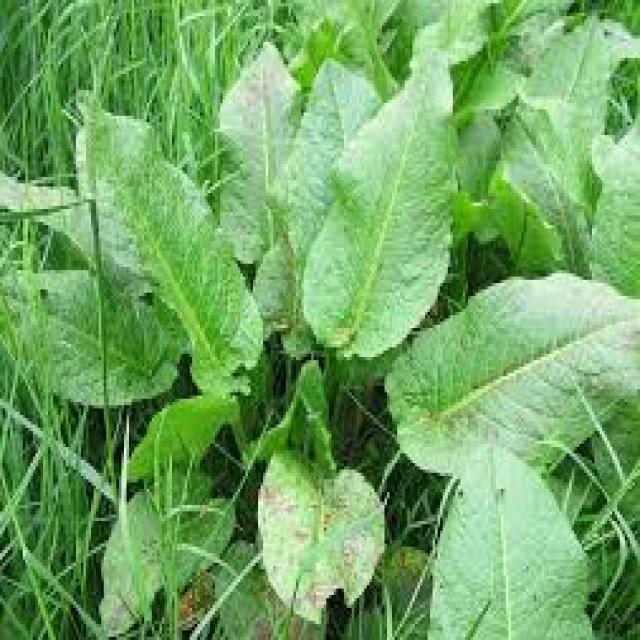organic waste: (15, 54, 640, 640)
